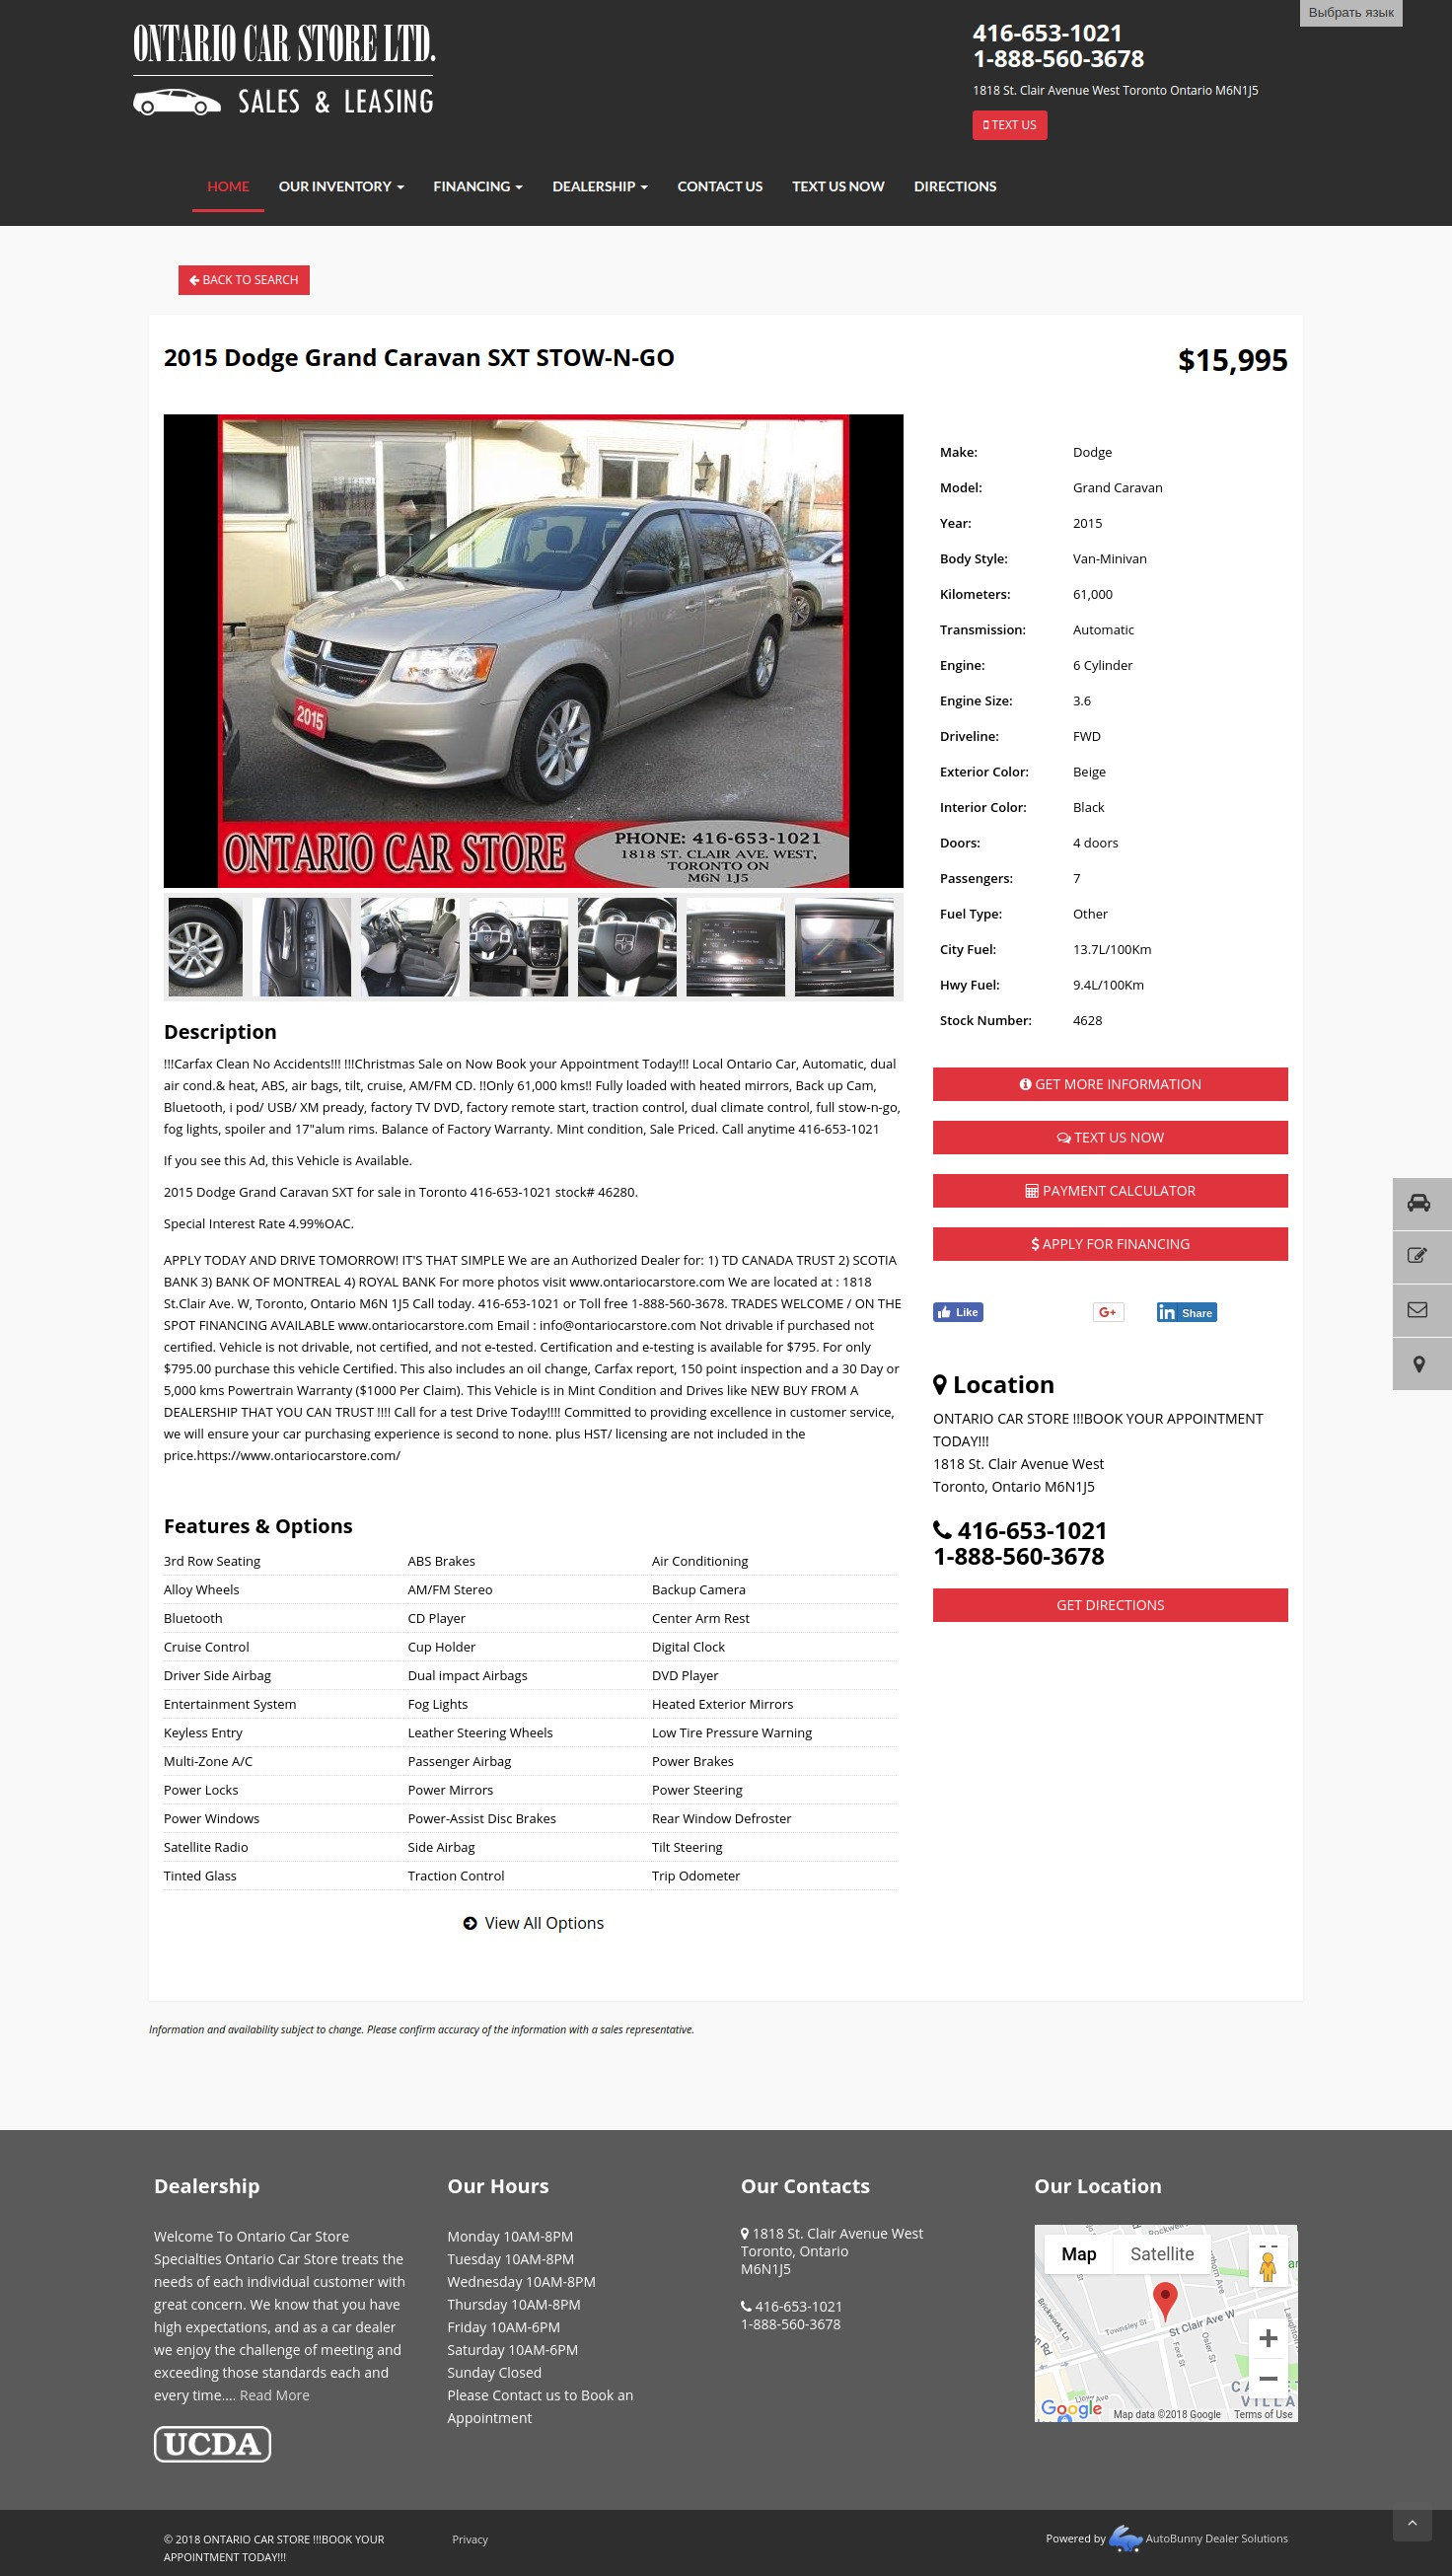car: (872, 897, 895, 1000)
